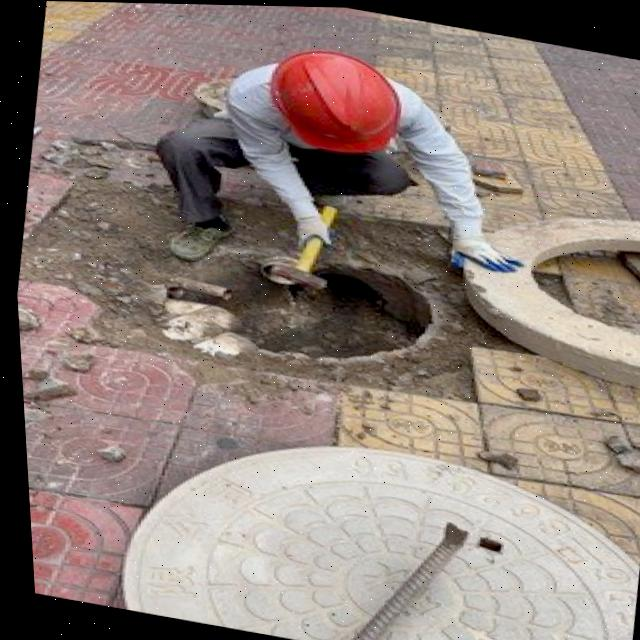manhole: (119, 221, 481, 402)
